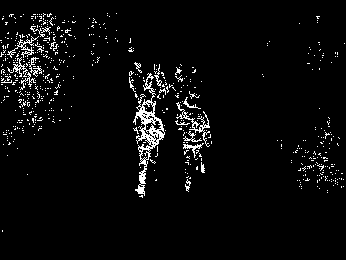person: (175, 94, 213, 195), (131, 100, 165, 198), (144, 62, 171, 102), (127, 60, 148, 104)
